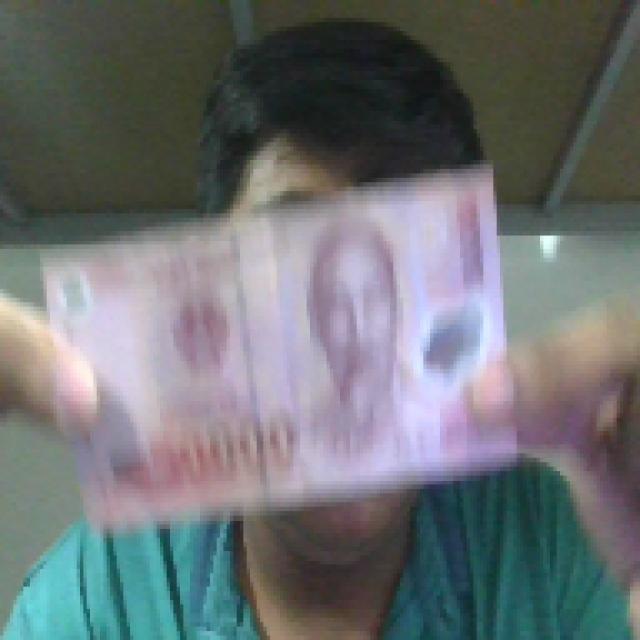50 000 VND: (33, 160, 520, 533)
